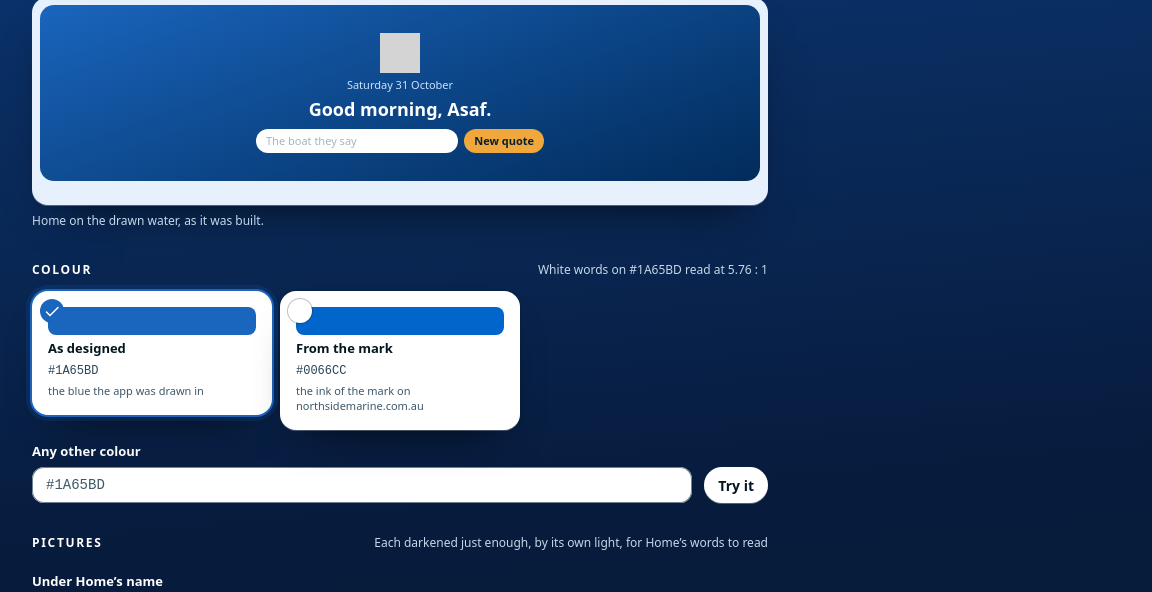
Test: colour, measured and tried before it is kept › puts a tried colour back without keeping anything
(page scrolled)
What coordinates should you click on to do the following:
click the button with aria-label "From the mark, #0066CC"
I would click on:
 (400, 360)
Its box is [280,291,520,430].
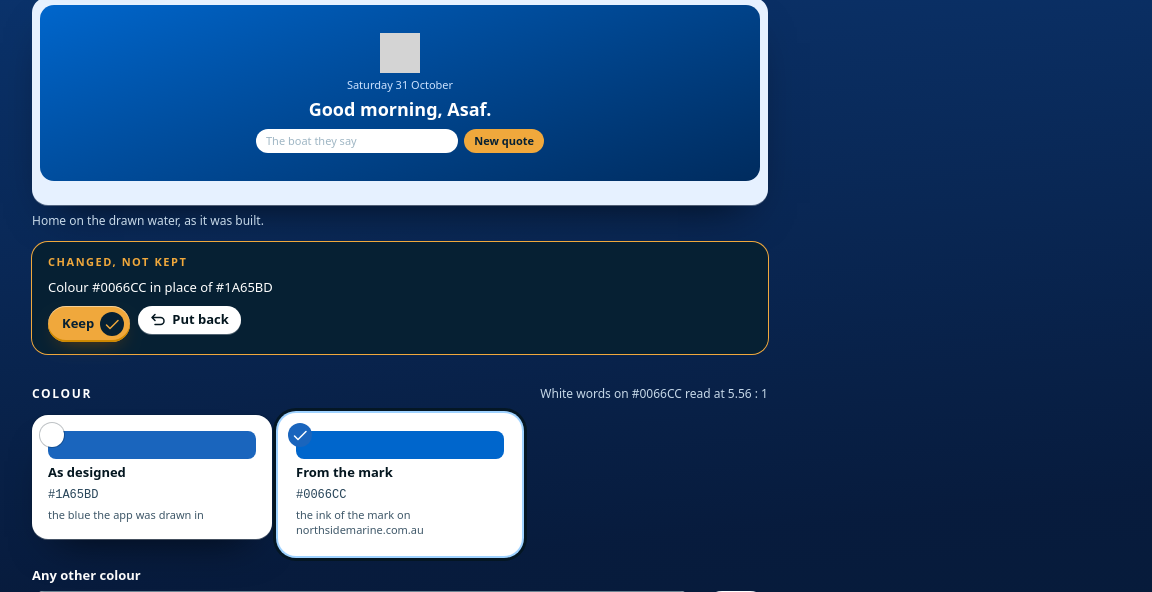
What coordinates should you click on to do the following:
click the button "Put back"
I would click on:
 (190, 320)
Its box is [138,306,241,334].
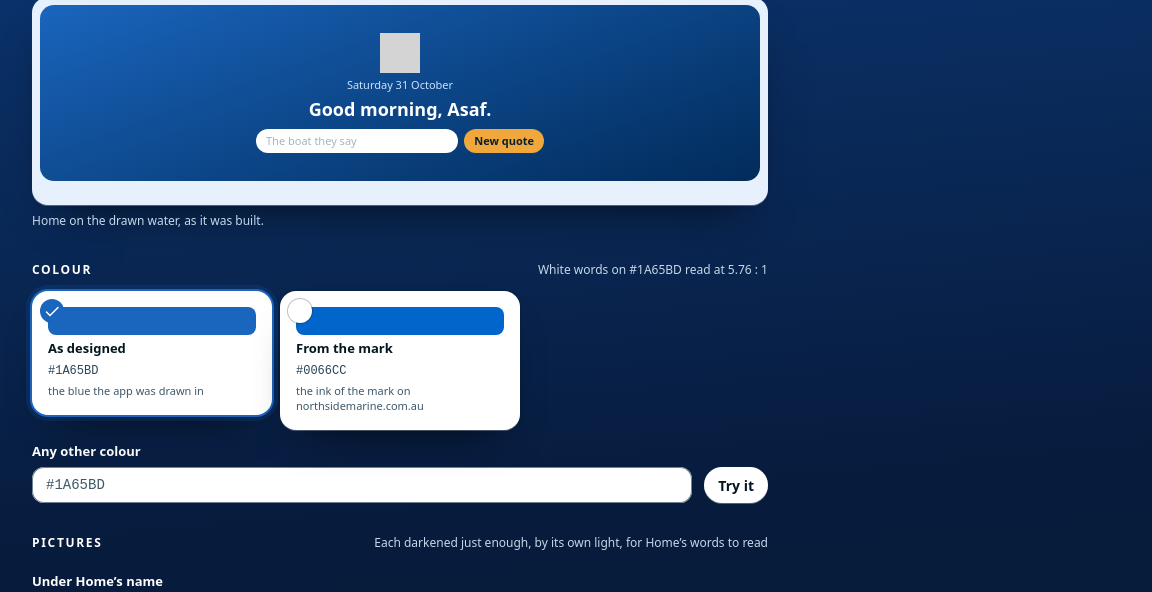
expect the element with test id "manage-staged" is gone: met
